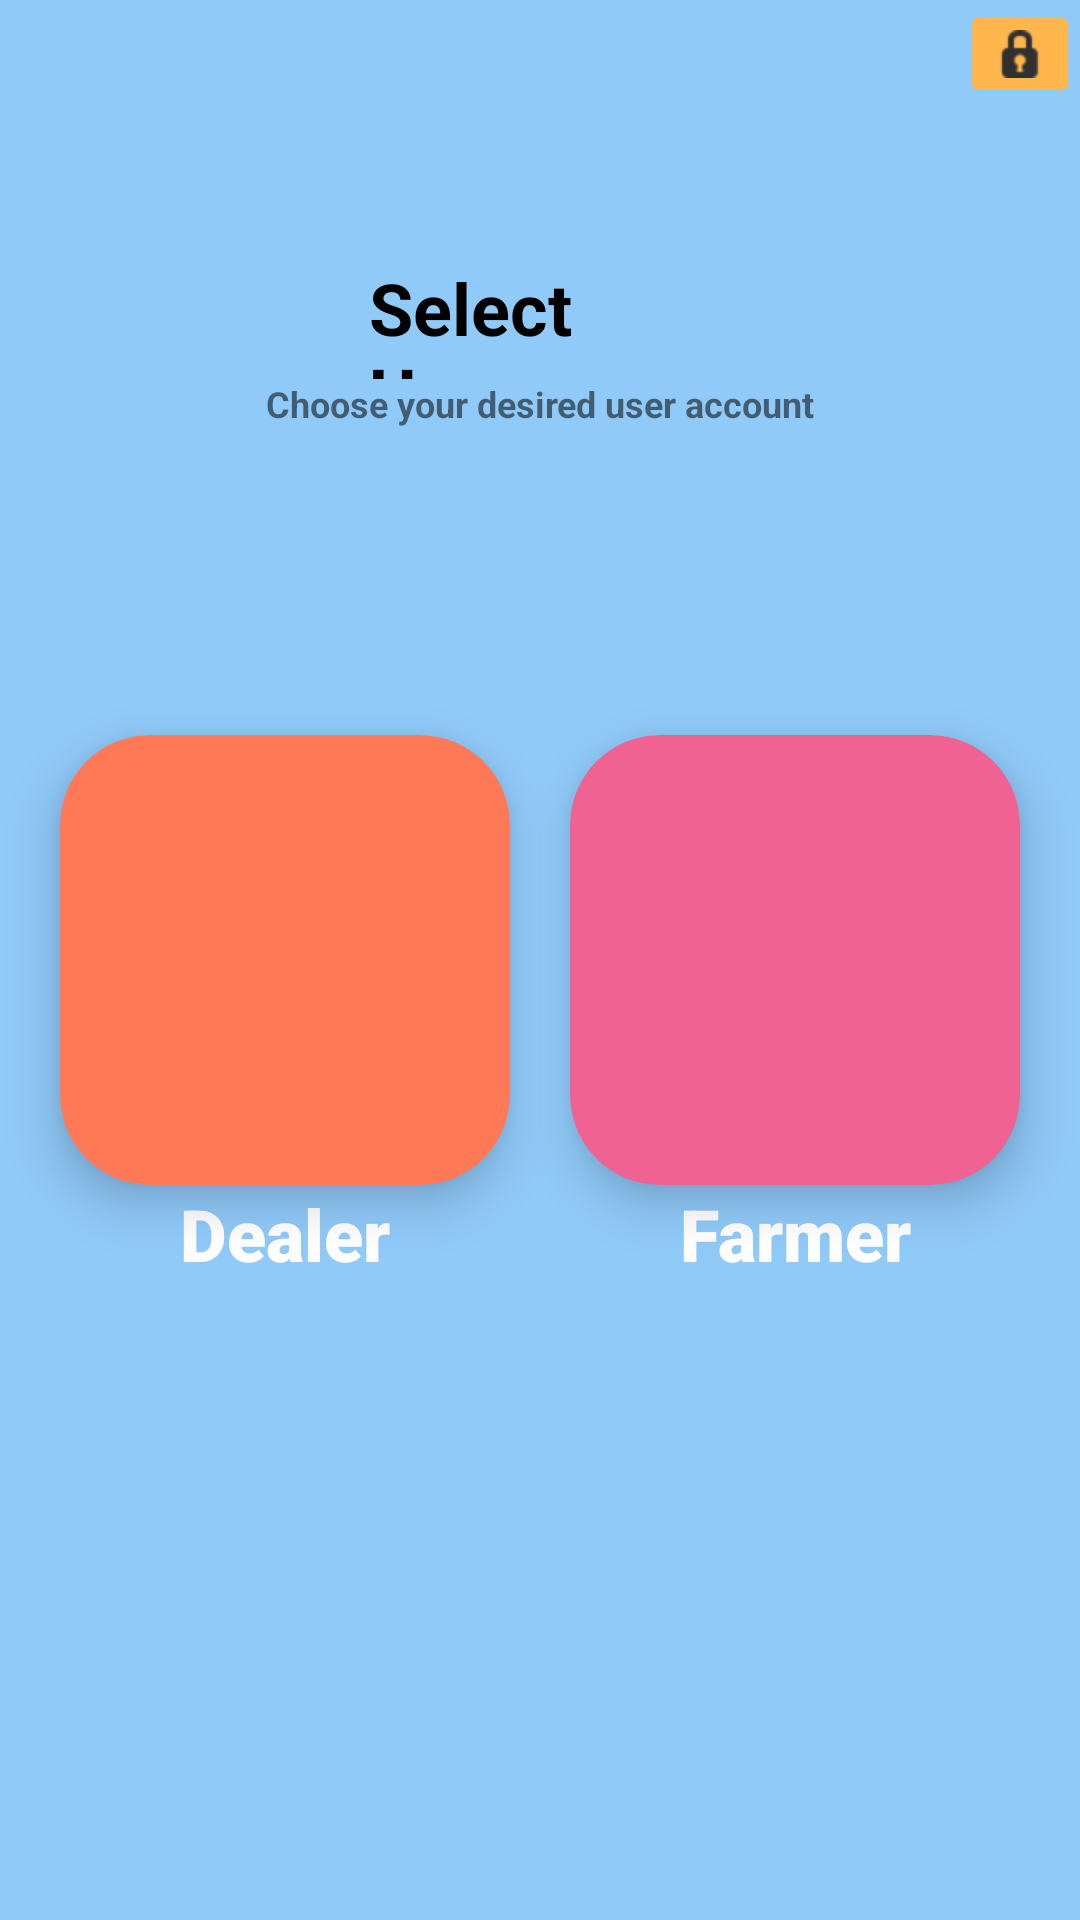

Locate icon controls on the screen. Image size 1080w x 1920h, boxes as (x1, y1, x2, y2).
secure: (972, 18, 1068, 90)
